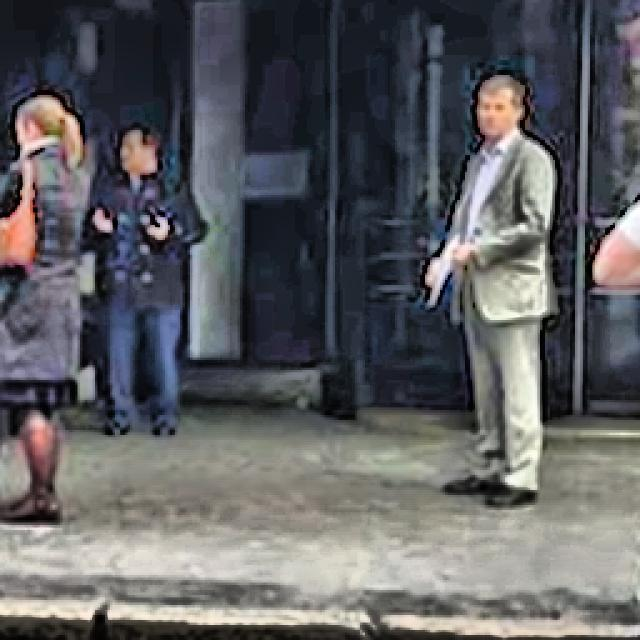Human: (418, 62, 583, 515), (0, 89, 83, 536), (102, 93, 205, 433)
